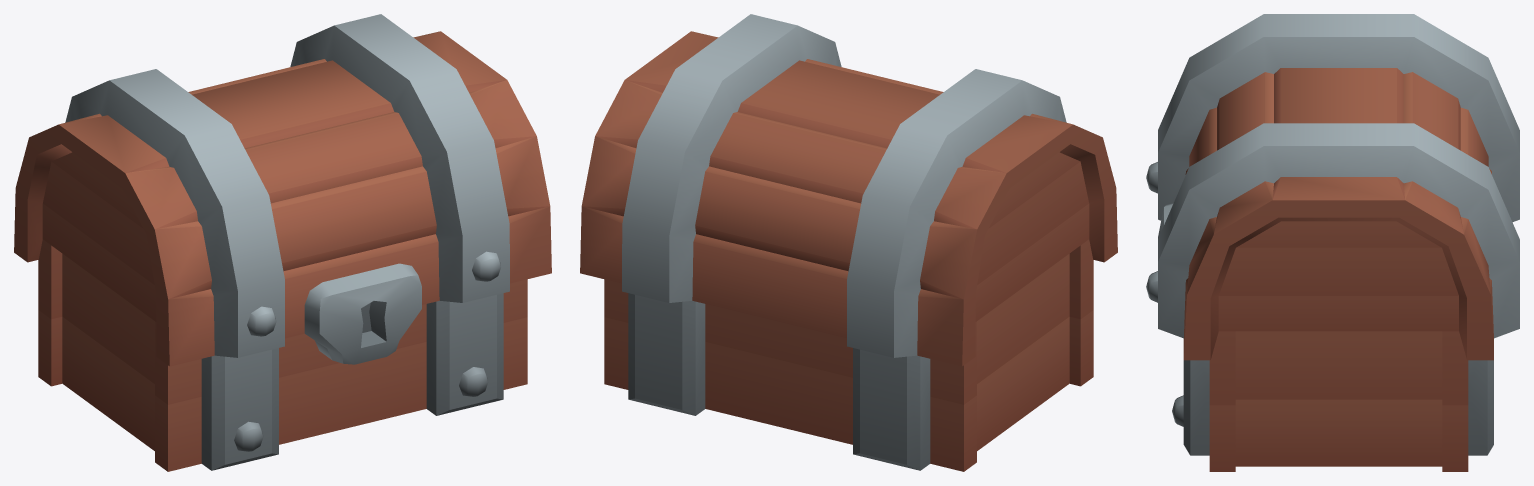
The model's file is chest_mimic.glb.
3 views of the same model, side by side, from view 1: azimuth 30°, elevation 25°; view 2: azimuth 150°, elevation 25°; view 3: azimuth 270°, elevation 25° (orthographic).
Parts seen in each view (by area): view 1: chest_mimic_lid, chest_mimic; view 2: chest_mimic_lid, chest_mimic; view 3: chest_mimic_lid, chest_mimic.
Part boxes in pixels (x1,y1,x2,y2): chest_mimic_lid: (14,14,551,366); chest_mimic: (38,239,527,471); chest_mimic_lid: (580,14,1117,366); chest_mimic: (604,239,1093,471); chest_mimic_lid: (1146,14,1519,360); chest_mimic: (1172,331,1493,471).
Bounding box in the file's own units: 1.7 × 1.3 × 1.45.
Materials: 1 (1 with a texture image).
